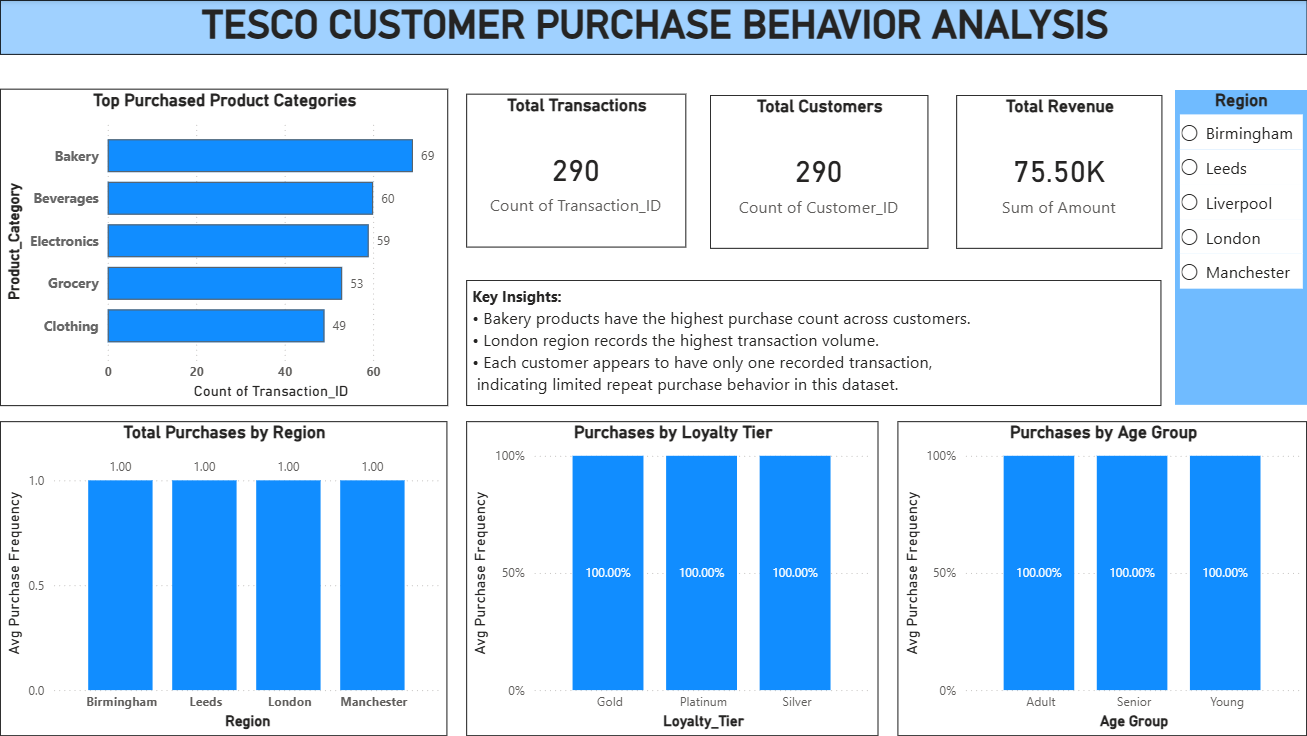

Layout of this report page (visuals, bound fields, positions):
{"tool":"powerbi","page":{"name":"REPEAT PURCHASE ANALYSIS (Task 3)","canvas":[1280,720],"ordinal":1},"visuals":[{"type":"clusteredColumnChart","title":"Total Purchases by Region","fields":{"Category":["Store_Locations.Region"],"Y":["Customer_Transactions.Avg Purchase Frequency"]},"box":[0,411.9,437.8,308.2],"z":0},{"type":"hundredPercentStackedColumnChart","title":"Purchases by Age Group","fields":{"Category":["Customer_Demographics.Age Group"],"Y":["Customer_Transactions.Avg Purchase Frequency"]},"box":[878.5,411.9,401.8,308.2],"z":1000},{"type":"hundredPercentStackedColumnChart","title":"Purchases by Loyalty Tier","fields":{"Category":["Loyalty_Program.Loyalty_Tier"],"Y":["Customer_Transactions.Avg Purchase Frequency"]},"box":[456.5,411.9,403.2,308.2],"z":2000},{"type":"clusteredBarChart","title":"Top Purchased Product Categories","fields":{"Y":["CountNonNull(Customer_Transactions.Transaction_ID)"],"Category":["Customer_Transactions.Product_Category"]},"box":[0,86.7,438.3,310],"z":3000},{"type":"textbox","title":"TESCO CUSTOMER PURCHASE BEHAVIOR ANALYSIS","box":[0,0,1280,53.3],"z":4000},{"type":"textbox","box":[456.7,273.3,680,123.3],"z":5000},{"type":"card","title":"Total Customers","fields":{"Values":["Count(Customer_Transactions.Customer_ID)"]},"box":[695,93.3,213.3,150],"z":6000},{"type":"card","title":"Total Transactions","fields":{"Values":["Count(Customer_Transactions.Transaction_ID)"]},"box":[456.7,91.7,215,150],"z":7000},{"type":"card","title":"Total Revenue","fields":{"Values":["Sum(Customer_Transactions.Amount)"]},"box":[935,93.3,201.7,150],"z":8000},{"type":"listSlicer","fields":{"Values":["Customer_Demographics.Region"]},"box":[1150,88.3,130,308.3],"z":9000}]}

Visuals, with their boxes in screenshot pixels (x1, y1, x2, y2), scaled from the page's 1280x720 canvas onto the 1307x736 screenshot:
"Total Purchases by Region" clusteredColumnChart: 0/421/447/735
"Purchases by Age Group" hundredPercentStackedColumnChart: 897/421/1306/735
"Purchases by Loyalty Tier" hundredPercentStackedColumnChart: 466/421/878/735
"Top Purchased Product Categories" clusteredBarChart: 0/89/448/406
"TESCO CUSTOMER PURCHASE BEHAVIOR ANALYSIS" textbox: 0/0/1306/54
textbox: 466/279/1161/405
"Total Customers" card: 710/95/927/249
"Total Transactions" card: 466/94/686/247
"Total Revenue" card: 955/95/1161/249
listSlicer - Customer_Demographics.Region: 1174/90/1306/405
